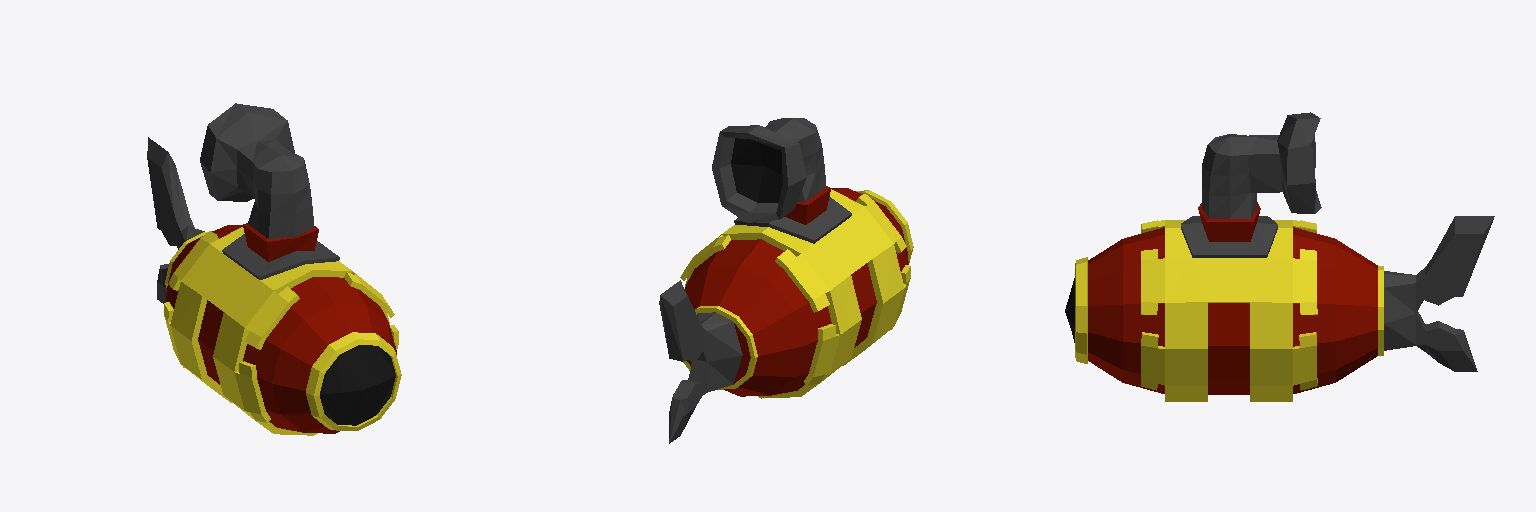
3 renders of one model, left to right at view 1: azimuth 30°, elevation 25°; view 2: azimuth 150°, elevation 25°; view 3: azimuth 270°, elevation 25°, orthographic.
Visible parts, largest first — view 1: Cylinder.003_Cylinder.001; view 2: Cylinder.003_Cylinder.001; view 3: Cylinder.003_Cylinder.001.
Part boxes in pixels (left/top/right/bottom): Cylinder.003_Cylinder.001: left=147, top=103, right=401, bottom=435; Cylinder.003_Cylinder.001: left=659, top=118, right=913, bottom=443; Cylinder.003_Cylinder.001: left=1065, top=112, right=1494, bottom=401.
Bounding box in the file's own units: 0.422 × 0.7008 × 0.9917.
2 materials, 1 textured.